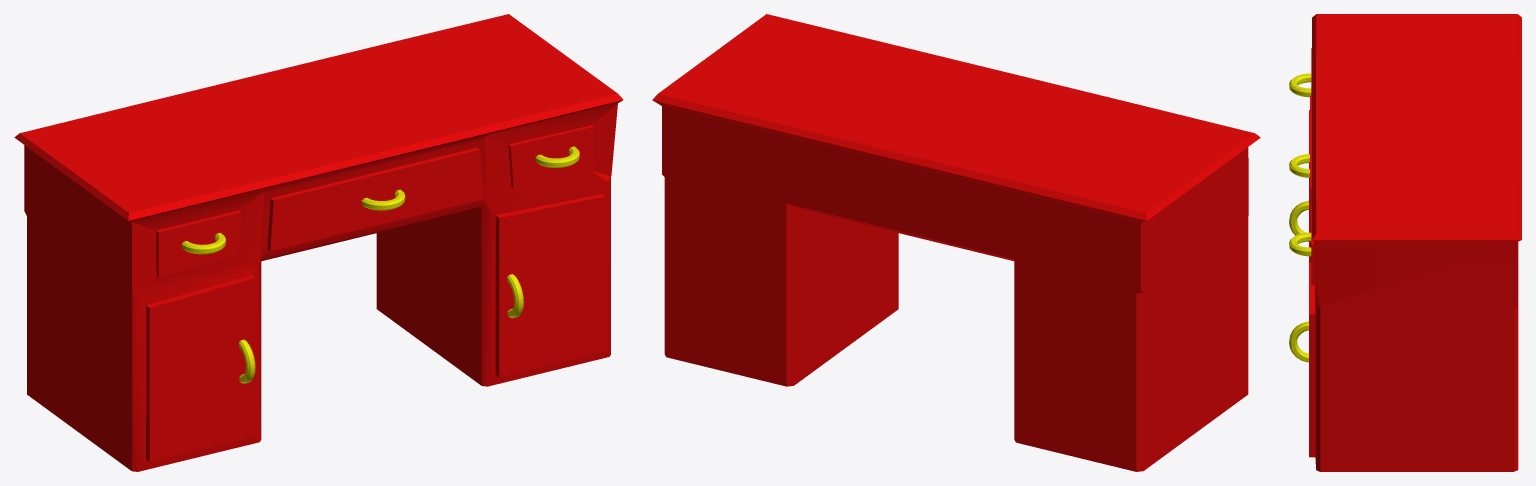
Rendered from Bureau Vrai.fbx.
The picture shows the model from 3 angles, left to right: view 1: azimuth 30°, elevation 25°; view 2: azimuth 150°, elevation 25°; view 3: azimuth 270°, elevation 25°; orthographic projection. The views are drawn at different scales.
Parts seen in each view (by area): view 1: pCube8; view 2: pCube8; view 3: pCube8, pCube11, pCube13, pCube10, pCube12, pCube9.
Part boxes in pixels (x1,y1,x2,y2): pCube8: (14,14,623,471); pCube8: (652,14,1260,471); pCube8: (1309,14,1521,471); pCube11: (1289,321,1308,362); pCube13: (1289,73,1311,97); pCube10: (1289,232,1311,256); pCube12: (1289,201,1308,241); pCube9: (1289,154,1309,177).
Bounding box in the file's own units: 7.76 × 3.9 × 3.43.
